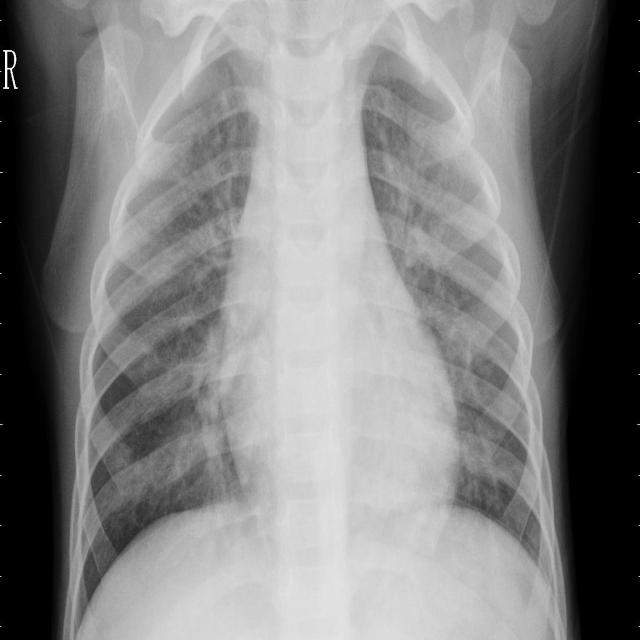low-pneumonia: (374, 98, 498, 350), (139, 52, 244, 263), (155, 327, 226, 497)
